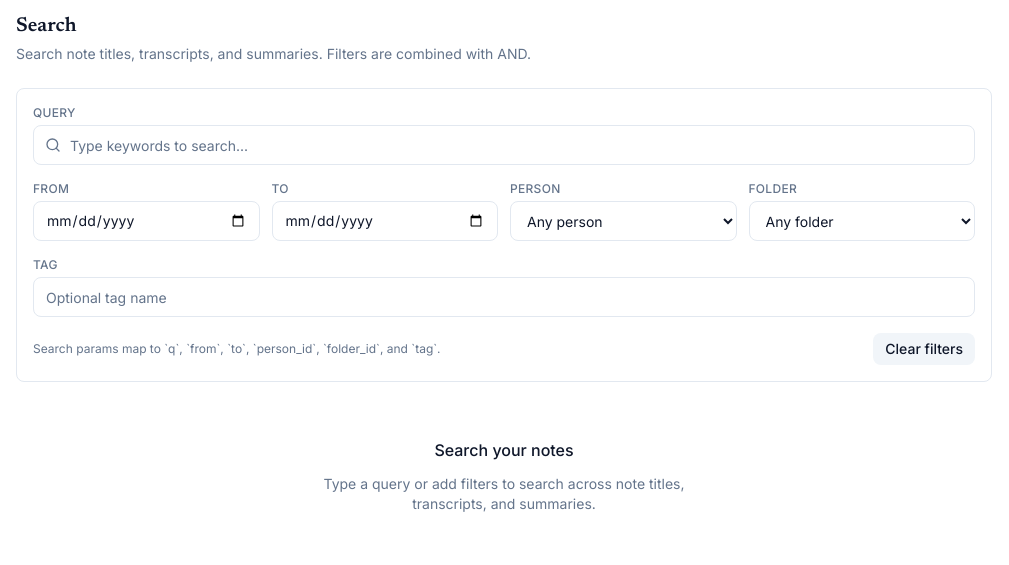
Test: SearchScreen › applies filters, clears them, and shows the empty state when there are no matches
The width and height of the screenshot is (1009, 565).
Expected: the text "Search your notes" is shown, [434,438,574,462]
Type "budget" into the field named "search query" at (504, 145), box [33,125,975,165]
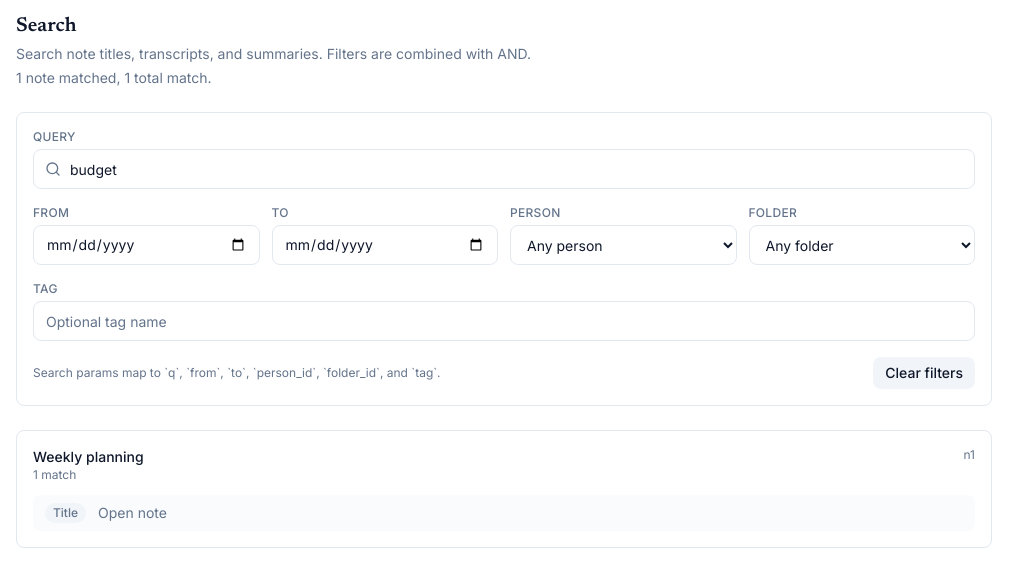
Select "Alex Doe" in the dropdown named "search person" at (623, 245), box [510,225,736,265]
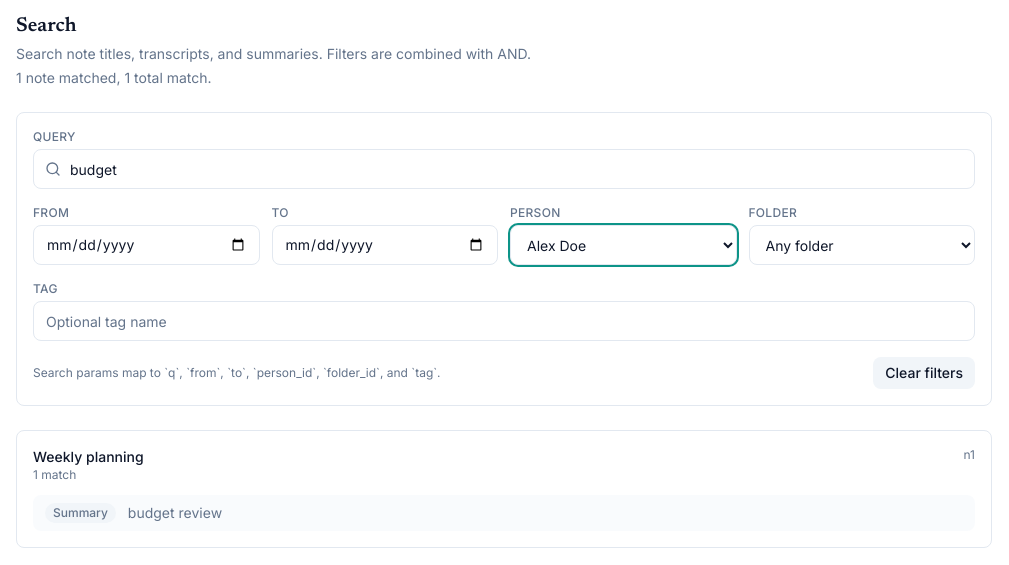
Now the text "Weekly planning" is shown, box [33,447,144,467]
Now the text "1 match" is shown, box [33,467,76,482]
Now the text "Summary" is shown, box [45,503,116,523]
Click the button "Clear filters" at (924, 373), box [873,357,975,389]
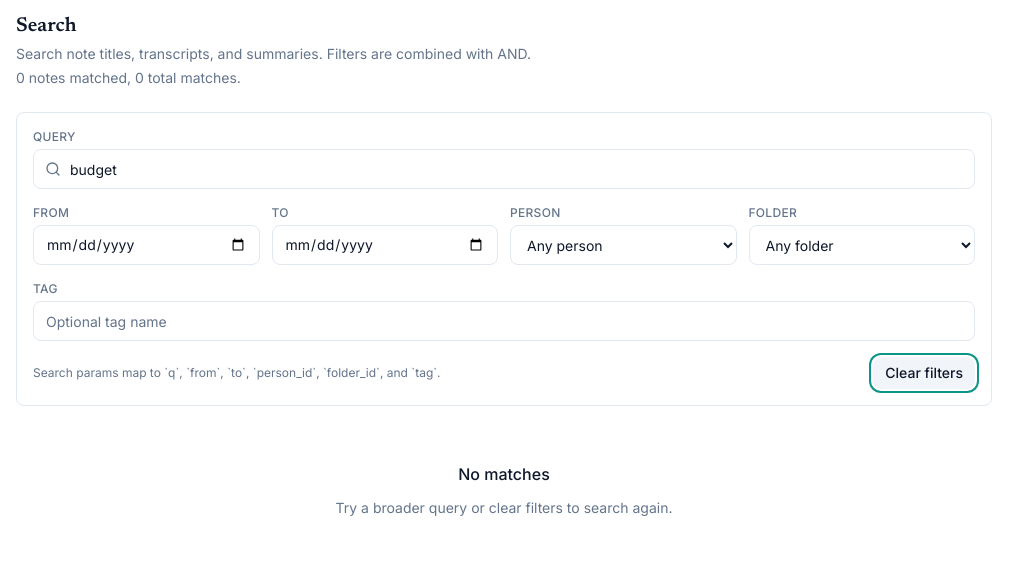
Now the text "No matches" is shown, box [458,462,550,486]
Now the text "Try a broader query or clear filters to search again." is shown, box [336,498,672,518]
